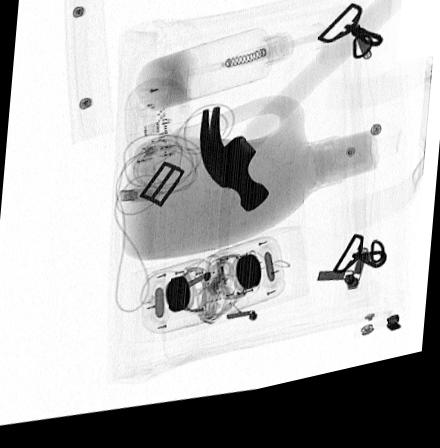Hammer: (199, 0, 403, 223)
